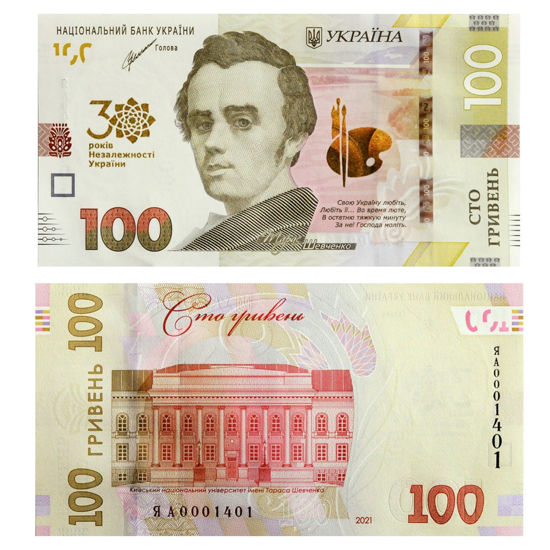bn_100: (40, 15, 526, 267), (39, 284, 523, 534)
